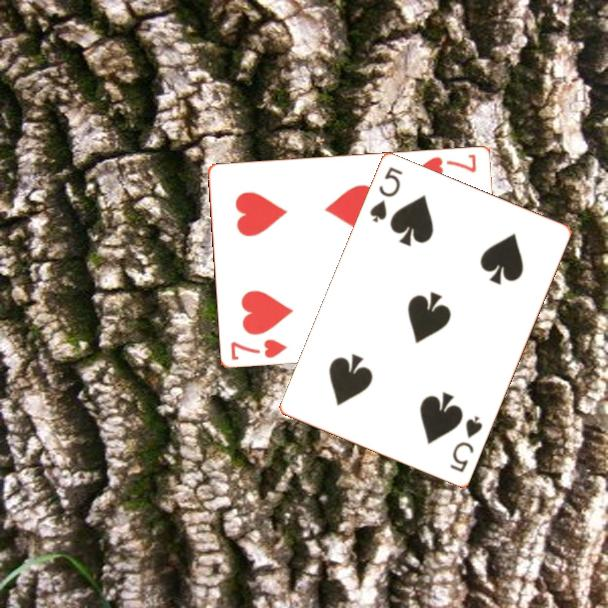h07: (416, 150, 479, 178), (227, 335, 290, 363)
s05: (366, 164, 405, 226), (447, 413, 485, 476)
